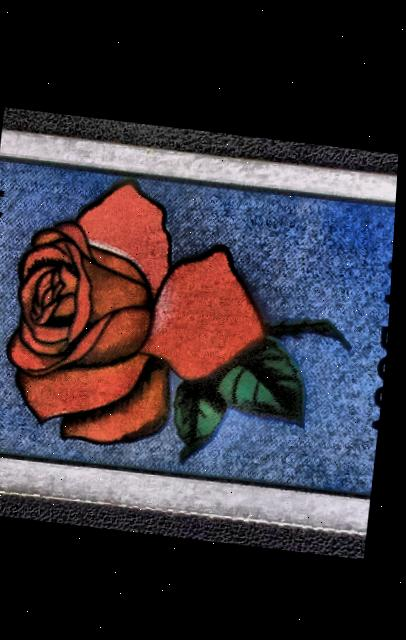La Rosa: (0, 146, 399, 511)
